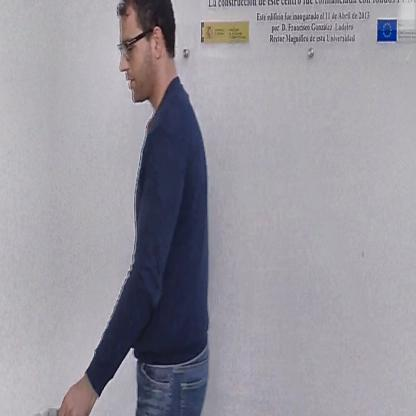knife: (26, 397, 94, 415)
